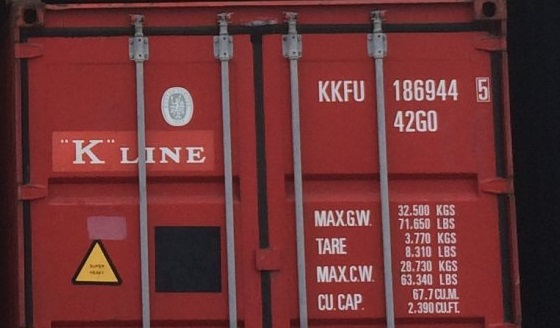container_door: (16, 1, 522, 324)
